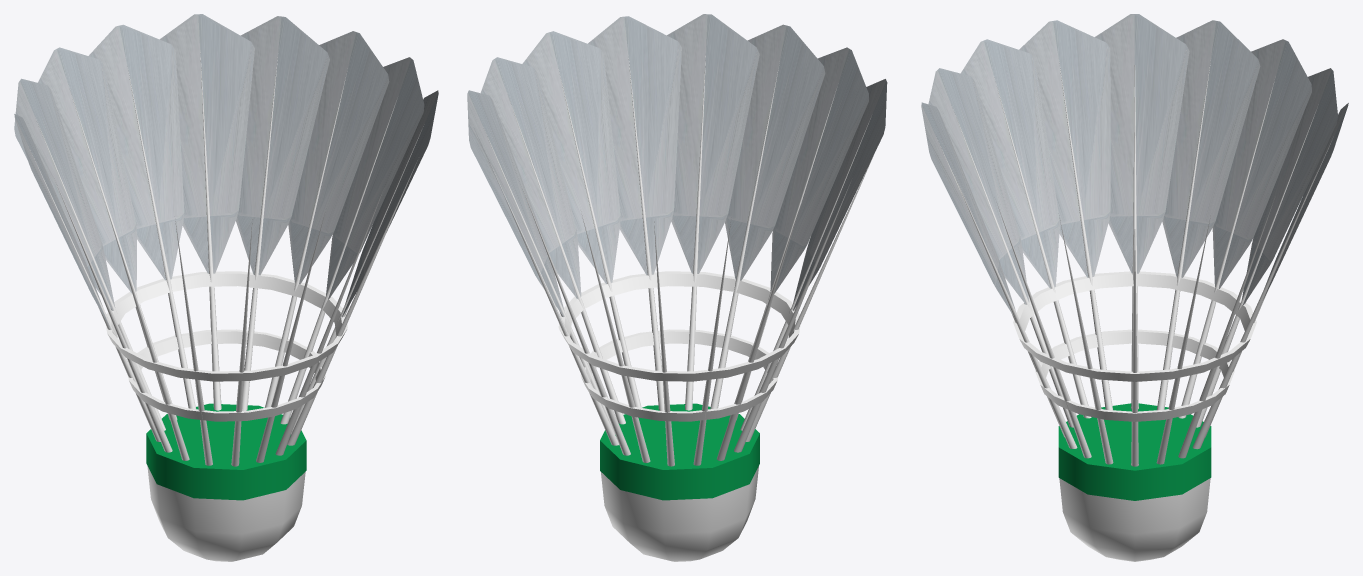
The model's file is shuttle.gltf.
3 views of the same model, side by side, from view 1: azimuth 30°, elevation 25°; view 2: azimuth 150°, elevation 25°; view 3: azimuth 270°, elevation 25° (orthographic).
Visible parts, largest first — view 1: feather, stem, band, cork, ring2, ring1; view 2: feather, stem, band, cork, ring2, ring1; view 3: feather, stem, band, cork, ring2, ring1.
Boxes of the visible parts, x1=… form: feather: x1=14, y1=14, x2=438, y2=329; stem: x1=30, y1=52, x2=423, y2=466; band: x1=146, y1=403, x2=306, y2=500; cork: x1=147, y1=466, x2=305, y2=561; ring2: x1=106, y1=271, x2=347, y2=381; ring1: x1=128, y1=329, x2=325, y2=421; feather: x1=467, y1=14, x2=887, y2=324; stem: x1=482, y1=55, x2=877, y2=466; band: x1=600, y1=403, x2=759, y2=500; cork: x1=601, y1=466, x2=758, y2=561; ring2: x1=558, y1=271, x2=800, y2=381; ring1: x1=580, y1=329, x2=777, y2=421; feather: x1=921, y1=14, x2=1348, y2=315; stem: x1=938, y1=58, x2=1331, y2=466; band: x1=1058, y1=403, x2=1211, y2=500; cork: x1=1059, y1=478, x2=1210, y2=561; ring2: x1=1013, y1=271, x2=1256, y2=381; ring1: x1=1035, y1=329, x2=1234, y2=421.
Size of the model in its own units: 0.0766 by 0.0891 by 0.0766.
Materials: 6 (1 with a texture image).
